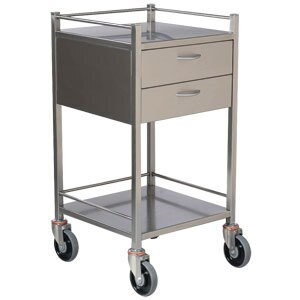Carts: (48, 3, 251, 296)
